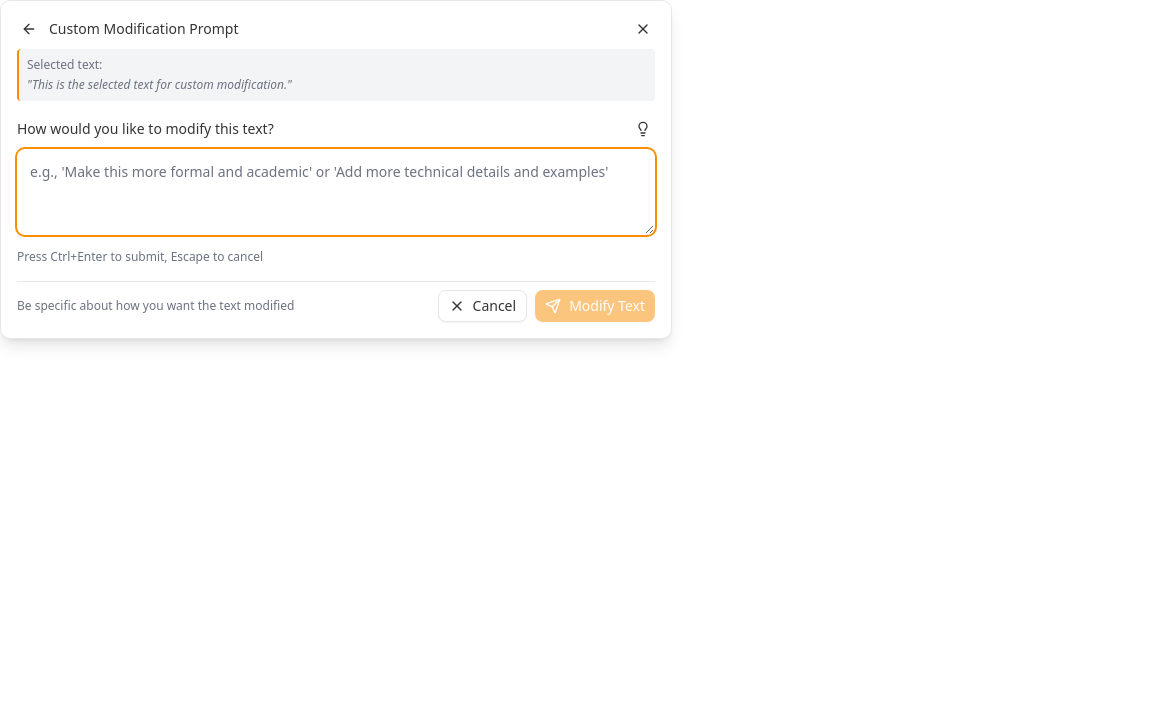
it: Modify Mode Integration Tests › CustomPromptInput Component › should enable submit button when prompt has content
In the text box with placeholder "Make this more formal and academic": (336, 192) [17,149,655,235], type "Test prompt"
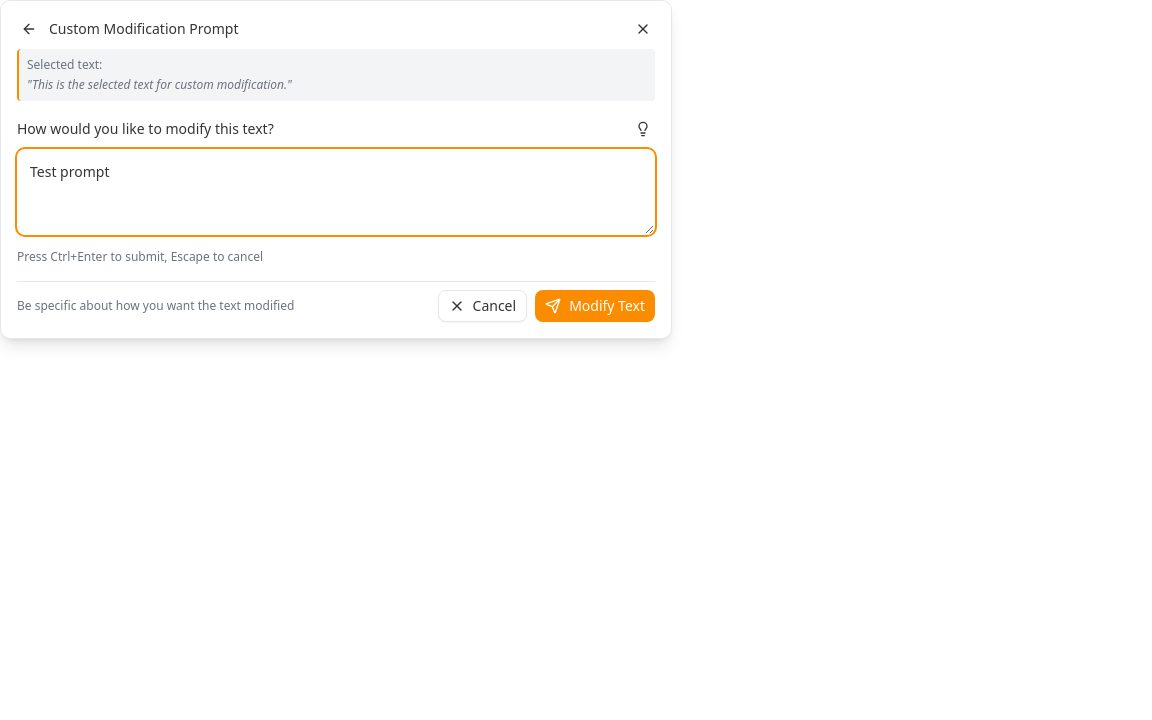
Expected: the button with test id "submit-prompt-button" is enabled, [535,290,655,322]
